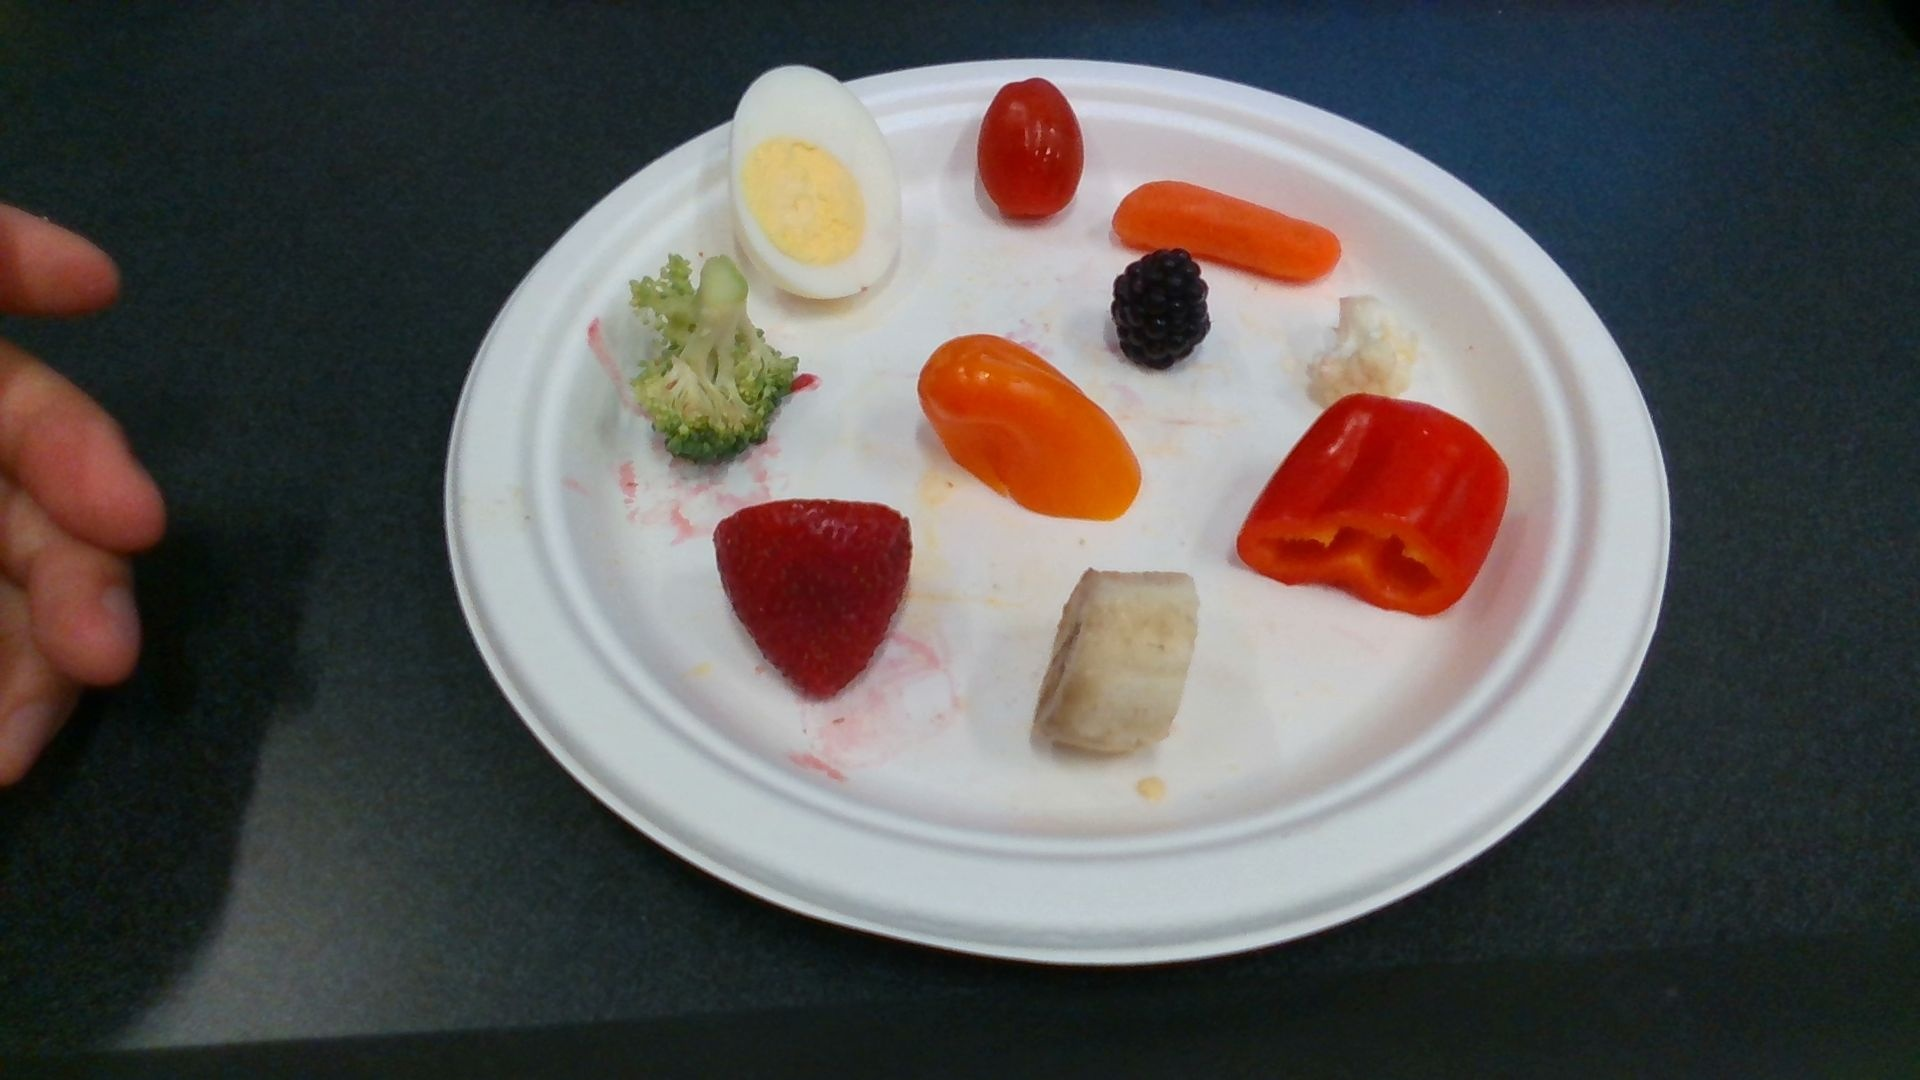banana: (1034, 571, 1197, 758)
bell_pepper: (1237, 396, 1507, 613), (919, 336, 1139, 518)
blackberry: (1116, 251, 1207, 367)
broccoli: (630, 256, 793, 460)
carrot: (1114, 179, 1337, 285)
cauliflower: (1309, 295, 1418, 407)
cherry_tomato: (977, 80, 1084, 218)
egg: (729, 66, 899, 295)
strawberry: (713, 501, 914, 703)
